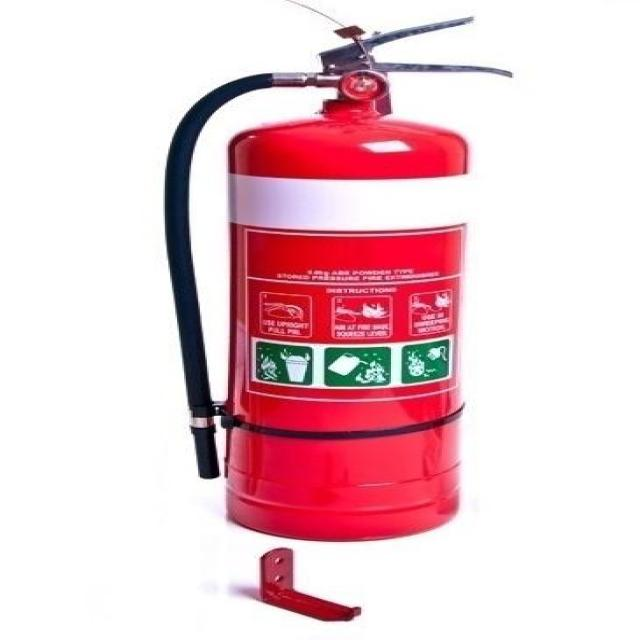fire_extinguisher: (154, 11, 521, 548)
